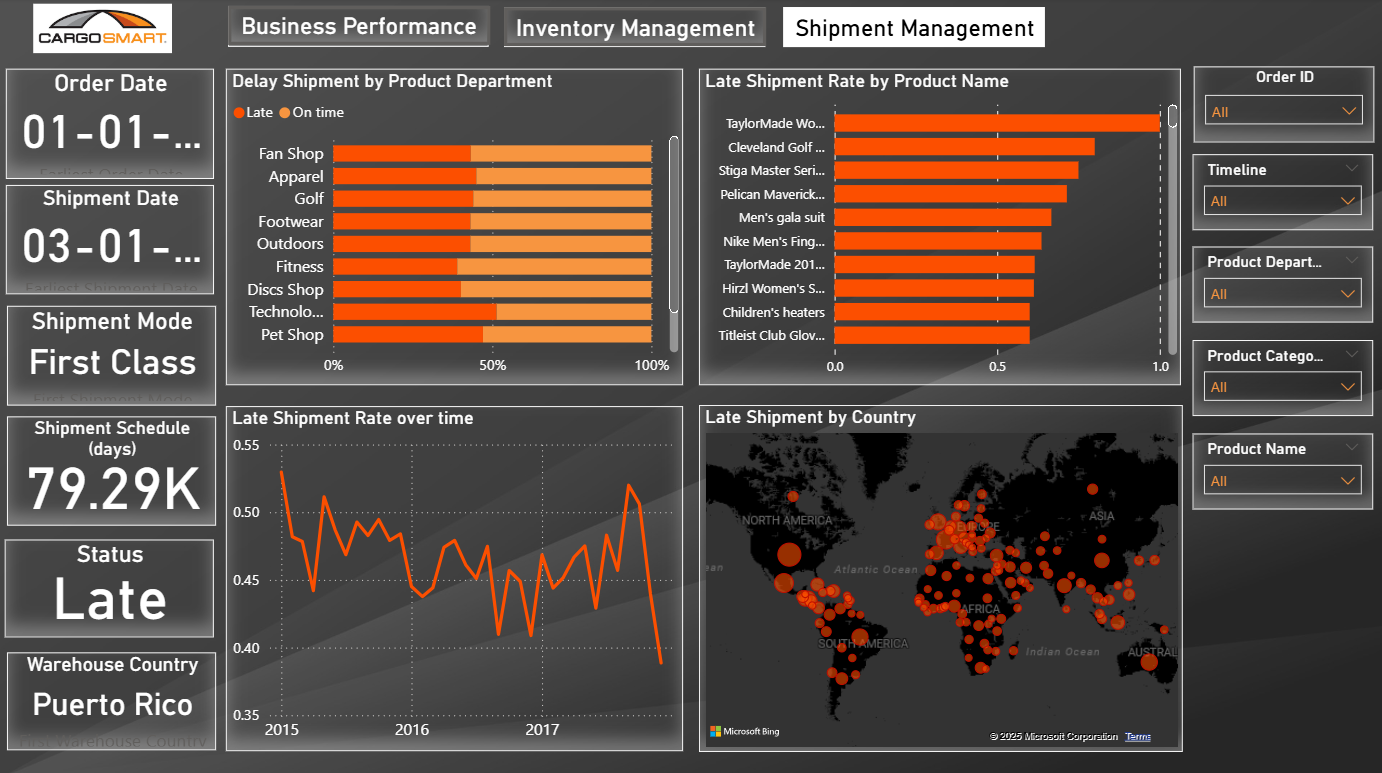

This screenshot's page, from the dashboard's own definition file:
{"tool":"powerbi","page":{"name":"Shipment Management","canvas":[1280,720],"ordinal":2},"visuals":[{"type":"textbox","box":[211.2,7,240,37.5],"z":0},{"type":"textbox","box":[466.2,8.1,241.3,36.6],"z":2000},{"type":"textbox","box":[723.7,8.1,241.3,36.6],"z":3000},{"type":"hundredPercentStackedBarChart","title":"Delay Shipment by Product Department","fields":{"Series":["order.Delay Shipment"],"Y":["Count(order.Order ID)"],"Category":["product.Product Department"]},"box":[209,64.7,421.5,291.9],"z":4000},{"type":"slicer","fields":{"Values":["product.Product Department"]},"box":[1101.6,229,167,70.6],"z":5000},{"type":"slicer","fields":{"Values":["Date.Date.Variation.Date Hierarchy.Year","Date.Date.Variation.Date Hierarchy.Quarter","Date.Date.Variation.Date Hierarchy.Month","Date.Date.Variation.Date Hierarchy.Day"]},"box":[1101.6,144,167,70.6],"z":6000},{"type":"slicer","title":"Order ID","fields":{"Values":["order.Order ID"]},"box":[1102.3,63.6,167,70.6],"z":7000},{"type":"map","title":"Late Shipment by Country","fields":{"Category":["order.Customer Country"],"Size":["Count(order.Order ID)"]},"box":[645.6,375.9,446.2,320.4],"z":8000},{"type":"clusteredBarChart","title":"Late Shipment Rate by Product Name","fields":{"Y":["order.Late Shipment Rate %"],"Category":["order.Product Name"]},"box":[646.3,64.7,445.1,291.9],"z":9000},{"type":"lineChart","title":"Late Shipment Rate over time","fields":{"Category":["Date.Date.Variation.Date Hierarchy.Year","Date.Date.Variation.Date Hierarchy.Quarter","Date.Date.Variation.Date Hierarchy.Month"],"Y":["order.Late Shipment Rate %"]},"box":[209,376.3,421.5,318.1],"z":10000},{"type":"card","title":"Order Date","fields":{"Values":["Min(order.Order Date)"]},"box":[6.4,65.5,192.5,101.8],"z":11000},{"type":"card","title":"Shipment Date","fields":{"Values":["Min(order.Shipment Date)"]},"box":[6.4,173,192.5,101.2],"z":12000},{"type":"card","title":"Shipment Mode","fields":{"Values":["Min(order.Shipment Mode)"]},"box":[7.2,283.7,193,92.2],"z":13000},{"type":"card","title":"Shipment Schedule (days)","fields":{"Values":["Sum(order.Shipment Days - Scheduled)"]},"box":[7.2,385.9,193,100.8],"z":14000},{"type":"card","title":"Status","fields":{"Values":["Min(order.Delay Shipment)"]},"box":[5.8,499.7,193,90.7],"z":15000},{"type":"slicer","fields":{"Values":["product.Product Category"]},"box":[1101.6,315.4,167,70.6],"z":16000},{"type":"slicer","fields":{"Values":["order.Product Name"]},"box":[1101.6,401.8,167,70.6],"z":17000},{"type":"card","title":"Warehouse Country","fields":{"Values":["Min(order.Warehouse Country)"]},"box":[7.2,603.4,193,90.7],"z":18000},{"type":"actionButton","box":[211.7,7.2,241.9,36],"z":19000},{"type":"actionButton","box":[466.6,8.6,241.9,36],"z":20000},{"type":"image","box":[0,0,190.4,55.8],"z":20001}]}

Visuals, with their boxes in screenshot pixels (x1, y1, x2, y2), scaled from the page's 1280x720 canvas onto the 1382x773 screenshot:
textbox: rect(228, 8, 487, 48)
textbox: rect(503, 9, 764, 48)
textbox: rect(781, 9, 1042, 48)
"Delay Shipment by Product Department" hundredPercentStackedBarChart: rect(226, 69, 681, 383)
slicer - product.Product Department: rect(1189, 246, 1370, 322)
slicer - Date.Date.Variation.Date Hierarchy.Year x Date.Date.Variation.Date Hierarchy.Quarter: rect(1189, 155, 1370, 230)
"Order ID" slicer: rect(1190, 68, 1370, 144)
"Late Shipment by Country" map: rect(697, 404, 1179, 748)
"Late Shipment Rate by Product Name" clusteredBarChart: rect(698, 69, 1178, 383)
"Late Shipment Rate over time" lineChart: rect(226, 404, 681, 746)
"Order Date" card: rect(7, 70, 215, 180)
"Shipment Date" card: rect(7, 186, 215, 294)
"Shipment Mode" card: rect(8, 305, 216, 404)
"Shipment Schedule (days)" card: rect(8, 414, 216, 523)
"Status" card: rect(6, 536, 215, 634)
slicer - product.Product Category: rect(1189, 339, 1370, 414)
slicer - order.Product Name: rect(1189, 431, 1370, 507)
"Warehouse Country" card: rect(8, 648, 216, 745)
actionButton: rect(229, 8, 490, 46)
actionButton: rect(504, 9, 765, 48)
image: rect(0, 0, 206, 60)
